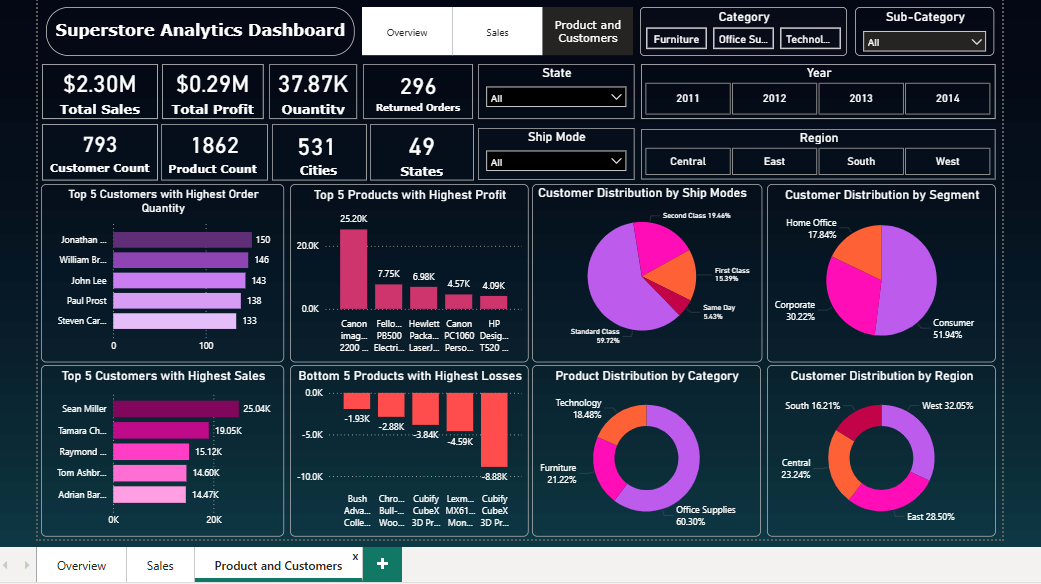

The dashboard page shown, as its layout file describes it:
{"tool":"powerbi","page":{"name":"Product and Customers","canvas":[1280,720],"ordinal":2},"visuals":[{"type":"textbox","box":[10.3,13.2,410.3,64.7],"z":0},{"type":"pageNavigator","box":[430.9,13.2,360.3,64.7],"z":1000},{"type":"advancedSlicerVisual","fields":{"Values":["Orders.Category"]},"box":[800,13.2,275,64.7],"z":2000},{"type":"slicer","title":"Sub-Category","fields":{"Values":["Orders.Sub-Category"]},"box":[1085.3,13.2,185.3,64.7],"z":3000},{"type":"card","title":"Total Sales","fields":{"Values":["Orders.Sales"]},"box":[5.9,89.3,153.7,73.2],"z":4000},{"type":"card","fields":{"Values":["Orders.Profit"]},"box":[165.4,89.3,134.6,73.2],"z":5000},{"type":"card","fields":{"Values":["Orders.Quantity"]},"box":[307.3,89.3,117.1,73.2],"z":6000},{"type":"slicer","title":"State","fields":{"Values":["Orders.State"]},"box":[583.9,89.3,207.8,73.2],"z":7000},{"type":"advancedSlicerVisual","fields":{"Values":["Date Table.Year"]},"box":[800.5,89.3,471.2,73.2],"z":8000},{"type":"card","fields":{"Values":["Orders.Customer ID"]},"box":[5.9,168.3,153.7,74.6],"z":9000},{"type":"card","fields":{"Values":["Returns.ReturnedOrdersCount"]},"box":[431.7,89.3,146.3,73.2],"z":10000},{"type":"card","fields":{"Values":["Orders.Product ID"]},"box":[163.9,168.3,142,74.6],"z":11000},{"type":"card","fields":{"Values":["Orders.City"]},"box":[310.2,168.3,125.9,74.6],"z":12000},{"type":"card","fields":{"Values":["Orders.State"]},"box":[440.5,168.3,137.6,74.6],"z":13000},{"type":"slicer","title":"Ship Mode ","fields":{"Values":["Orders.Ship Mode"]},"box":[583.9,174.1,207.8,68.8],"z":14000},{"type":"advancedSlicerVisual","fields":{"Values":["Orders.Region"]},"box":[800.5,175.6,471.2,67.3],"z":15000},{"type":"barChart","title":"Top 5 Customers with Highest Order Quantity","fields":{"Category":["Orders.Customer Name"],"Y":["Orders.Quantity"]},"box":[4.4,248.8,323.4,237.1],"z":16000},{"type":"barChart","title":"Top 5 Customers with Highest Sales","fields":{"Category":["Orders.Customer Name"],"Y":["Orders.Sales"]},"box":[4.4,488.8,323.4,228.3],"z":17000},{"type":"columnChart","title":"Top 5 Products with Highest Profit","fields":{"Category":["Orders.Product Name"],"Y":["Orders.Profit"]},"box":[334.3,248.6,317.5,236.9],"z":18000},{"type":"columnChart","title":"Bottom 5 Products with Highest Losses","fields":{"Category":["Orders.Product Name"],"Y":["Orders.Profit"]},"box":[334.3,488.8,317.5,228.5],"z":19000},{"type":"pieChart","title":"Customer Distribution by Ship Modes","fields":{"Category":["Orders.Ship Mode"],"Y":["Orders.Customer Name"]},"box":[655.6,248.8,305.9,237.1],"z":20000},{"type":"pieChart","title":"Customer Distribution by Segment","fields":{"Category":["Orders.Segment"],"Y":["Orders.Customer Name"]},"box":[968.8,248.8,304.4,237.1],"z":21000},{"type":"donutChart","title":"Product Distribution by Category","fields":{"Category":["Orders.Category"],"Y":["Orders.Product Name"]},"box":[656.8,488.8,304,228.5],"z":22000},{"type":"donutChart","title":"Customer Distribution by Region","fields":{"Category":["Orders.Region"],"Y":["Orders.Customer Name"]},"box":[969,489,304,228],"z":23000}]}

Visuals, with their boxes on the page's 1280x720 design canvas (x1, y1, x2, y2). These are canvas units, not pixel positions in the 1041x584 screenshot, which may show the page scaled, cropped or inside an application window:
textbox: left=10, top=13, right=421, bottom=78
pageNavigator: left=431, top=13, right=791, bottom=78
advancedSlicerVisual - Orders.Category: left=800, top=13, right=1075, bottom=78
"Sub-Category" slicer: left=1085, top=13, right=1271, bottom=78
"Total Sales" card: left=6, top=89, right=160, bottom=162
card - Orders.Profit: left=165, top=89, right=300, bottom=162
card - Orders.Quantity: left=307, top=89, right=424, bottom=162
"State" slicer: left=584, top=89, right=792, bottom=162
advancedSlicerVisual - Date Table.Year: left=800, top=89, right=1272, bottom=162
card - Orders.Customer ID: left=6, top=168, right=160, bottom=243
card - Returns.ReturnedOrdersCount: left=432, top=89, right=578, bottom=162
card - Orders.Product ID: left=164, top=168, right=306, bottom=243
card - Orders.City: left=310, top=168, right=436, bottom=243
card - Orders.State: left=440, top=168, right=578, bottom=243
"Ship Mode " slicer: left=584, top=174, right=792, bottom=243
advancedSlicerVisual - Orders.Region: left=800, top=176, right=1272, bottom=243
"Top 5 Customers with Highest Order Quantity" barChart: left=4, top=249, right=328, bottom=486
"Top 5 Customers with Highest Sales" barChart: left=4, top=489, right=328, bottom=717
"Top 5 Products with Highest Profit" columnChart: left=334, top=249, right=652, bottom=486
"Bottom 5 Products with Highest Losses" columnChart: left=334, top=489, right=652, bottom=717
"Customer Distribution by Ship Modes" pieChart: left=656, top=249, right=962, bottom=486
"Customer Distribution by Segment" pieChart: left=969, top=249, right=1273, bottom=486
"Product Distribution by Category" donutChart: left=657, top=489, right=961, bottom=717
"Customer Distribution by Region" donutChart: left=969, top=489, right=1273, bottom=717
